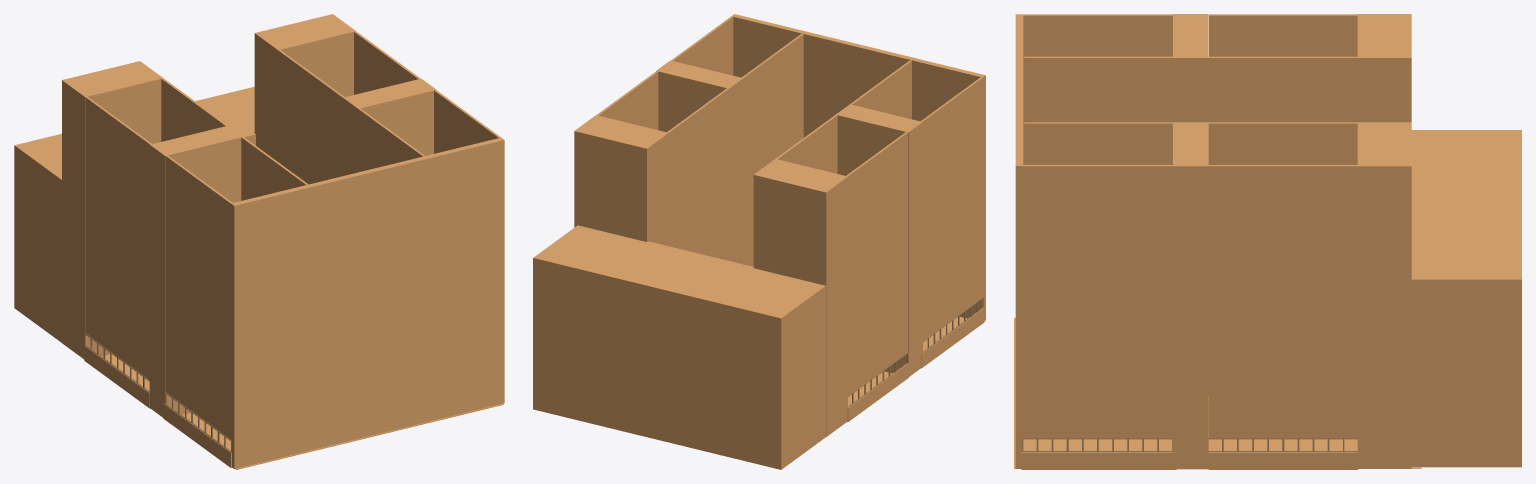
3 renders of one model, left to right at view 1: azimuth 30°, elevation 25°; view 2: azimuth 150°, elevation 25°; view 3: azimuth 270°, elevation 25°, orthographic. The views are drawn at different scales.
Visible parts, largest first — view 1: Cube.196; view 2: Cube.196; view 3: Cube.196.
Part boxes in pixels (x1,y1,x2,y2): Cube.196: (14,14,504,469); Cube.196: (533,14,985,469); Cube.196: (1014,14,1521,469).
Size of the model in its own units: 7851 by 7272 by 11028.
